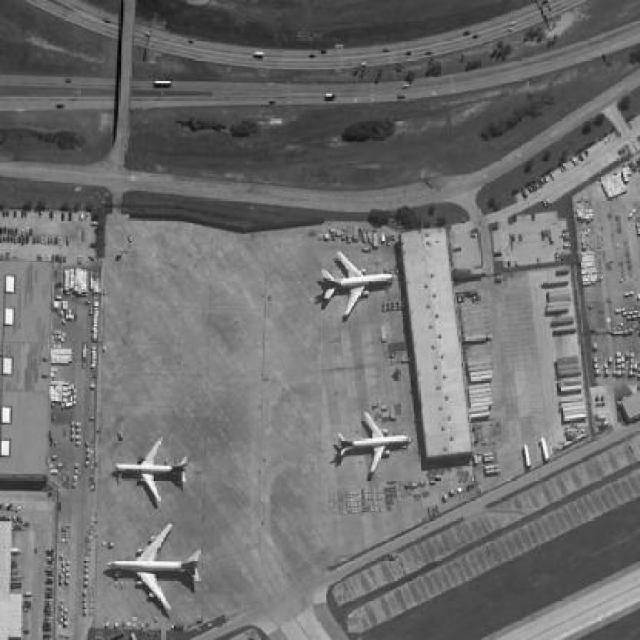airplane: (104, 520, 203, 614), (114, 436, 191, 508), (319, 251, 399, 320), (338, 411, 413, 479)
